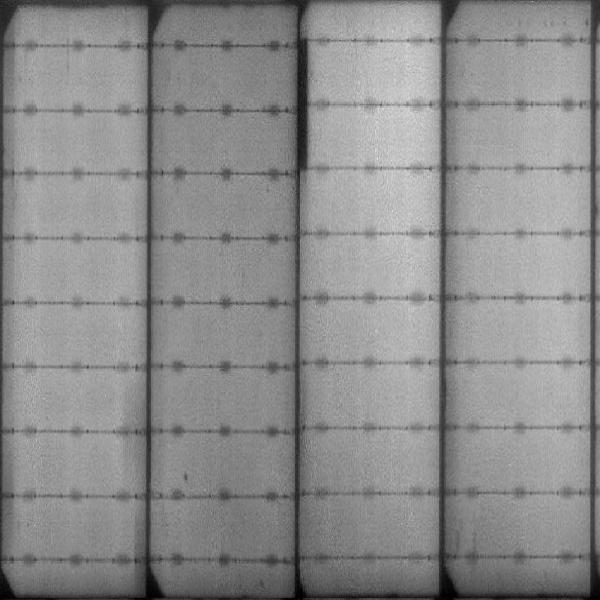black_border: (296, 37, 312, 168)
